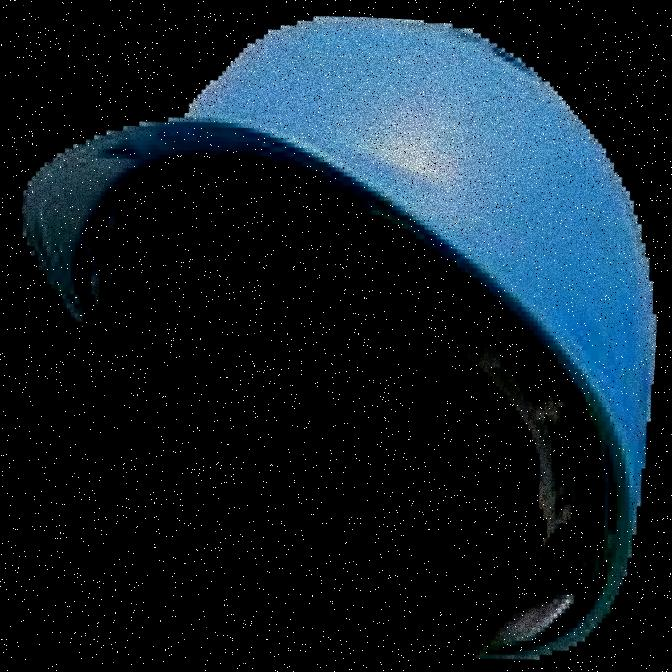Capacete: (512, 0, 577, 671)
